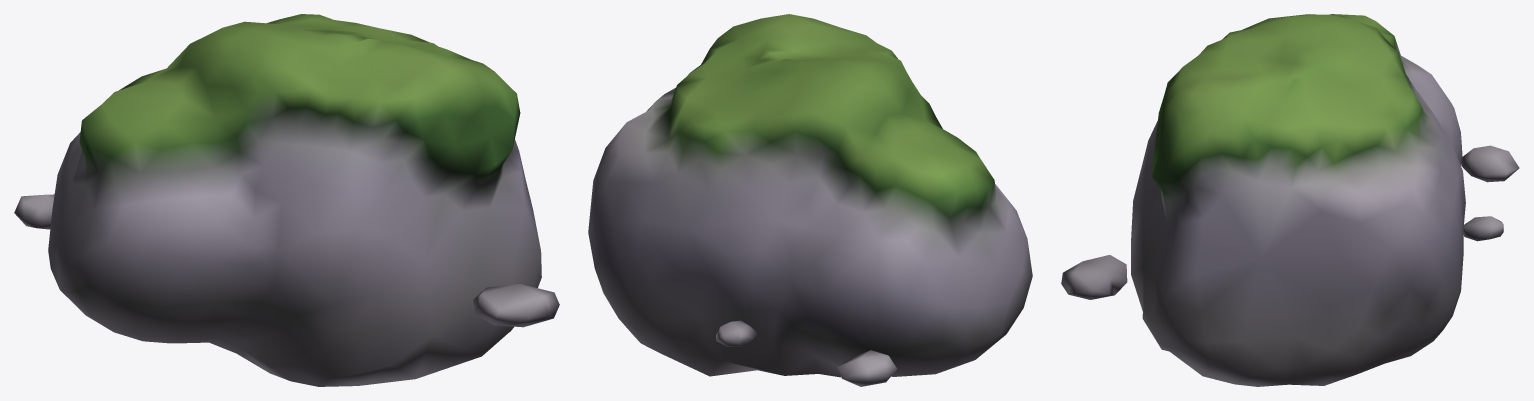
Rendered from tree-village-rock-v2.glb.
3 views of the same model, side by side, from view 1: azimuth 30°, elevation 25°; view 2: azimuth 150°, elevation 25°; view 3: azimuth 270°, elevation 25° (orthographic). The views are drawn at different scales.
Parts seen in each view (by area): view 1: rock; view 2: rock; view 3: rock.
Boxes of the visible parts, x1=… form: rock: x1=14, y1=14, x2=559, y2=386; rock: x1=588, y1=14, x2=1032, y2=386; rock: x1=1061, y1=14, x2=1519, y2=386.
Bounding box in the file's own units: 1.29 × 0.8596 × 1.32.
